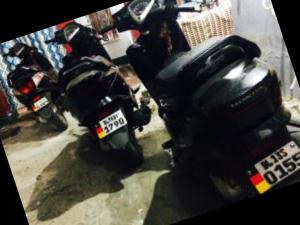plate: (87, 104, 141, 146)
